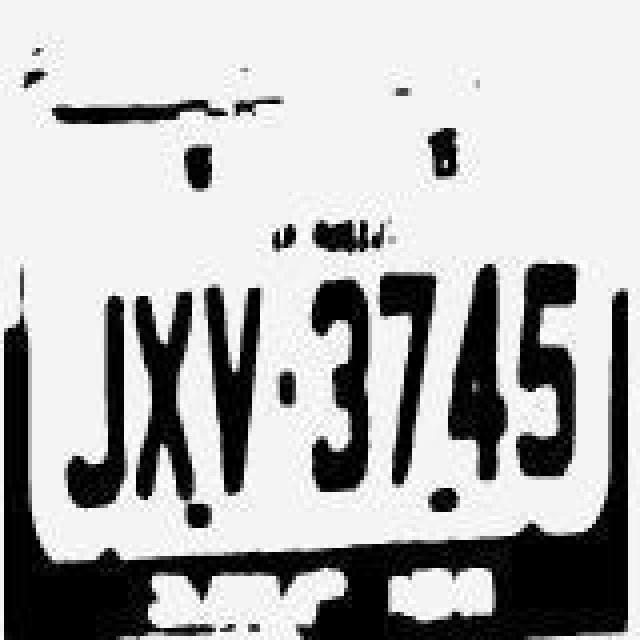3: (304, 272, 376, 496)
4: (446, 246, 514, 482)
5: (512, 242, 584, 478)
7: (376, 262, 440, 482)
J: (60, 276, 132, 508)
V: (206, 274, 274, 494)
X: (136, 270, 200, 498)
